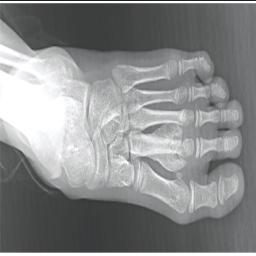cancer: (151, 117, 186, 172)
